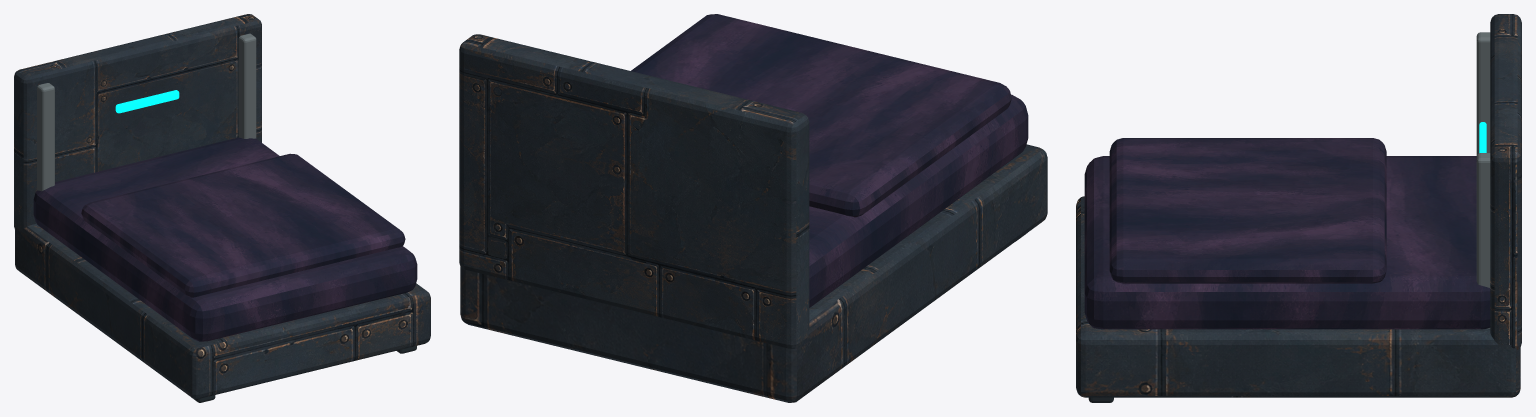
File: APT_Bed_Full_Plum.glb
3 renders of one model, left to right at view 1: azimuth 30°, elevation 25°; view 2: azimuth 150°, elevation 25°; view 3: azimuth 270°, elevation 25°, orthographic. The views are drawn at different scales.
Parts seen in each view (by area): view 1: APT_Bed_Full_Plum_Blanket, APT_Bed_Full_Plum_Headboard, APT_Bed_Full_Plum_Frame, APT_Bed_Full_Plum_Mattress, APT_Bed_Full_Plum_HeadTrim_0.68, APT_Bed_Full_Plum_HeadTrim_-0.68, APT_Bed_Full_Plum_HeadLight; view 2: APT_Bed_Full_Plum_Headboard, APT_Bed_Full_Plum_Frame, APT_Bed_Full_Plum_Blanket, APT_Bed_Full_Plum_Mattress; view 3: APT_Bed_Full_Plum_Blanket, APT_Bed_Full_Plum_Mattress, APT_Bed_Full_Plum_Frame, APT_Bed_Full_Plum_Headboard, APT_Bed_Full_Plum_HeadTrim_0.68, APT_Bed_Full_Plum_HeadTrim_-0.68.
Boxes of the visible parts, left/top/right/bottom form: APT_Bed_Full_Plum_Blanket: left=81, top=153, right=405, bottom=297; APT_Bed_Full_Plum_Headboard: left=14, top=14, right=261, bottom=231; APT_Bed_Full_Plum_Frame: left=15, top=223, right=430, bottom=398; APT_Bed_Full_Plum_Mattress: left=33, top=137, right=417, bottom=341; APT_Bed_Full_Plum_HeadTrim_0.68: left=238, top=33, right=256, bottom=138; APT_Bed_Full_Plum_HeadTrim_-0.68: left=37, top=83, right=54, bottom=191; APT_Bed_Full_Plum_HeadLight: left=115, top=90, right=179, bottom=113; APT_Bed_Full_Plum_Headboard: left=459, top=34, right=809, bottom=348; APT_Bed_Full_Plum_Frame: left=460, top=144, right=1047, bottom=402; APT_Bed_Full_Plum_Blanket: left=631, top=14, right=1011, bottom=217; APT_Bed_Full_Plum_Mattress: left=809, top=94, right=1028, bottom=307; APT_Bed_Full_Plum_Blanket: left=1109, top=138, right=1386, bottom=283; APT_Bed_Full_Plum_Mattress: left=1084, top=156, right=1490, bottom=329; APT_Bed_Full_Plum_Frame: left=1076, top=196, right=1520, bottom=397; APT_Bed_Full_Plum_Headboard: left=1490, top=14, right=1521, bottom=349; APT_Bed_Full_Plum_HeadTrim_0.68: left=1476, top=153, right=1490, bottom=328; APT_Bed_Full_Plum_HeadTrim_-0.68: left=1476, top=32, right=1490, bottom=155.
Size of the model in its own units: 1.62 by 1.34 by 2.12.
5 materials, 2 textured.
